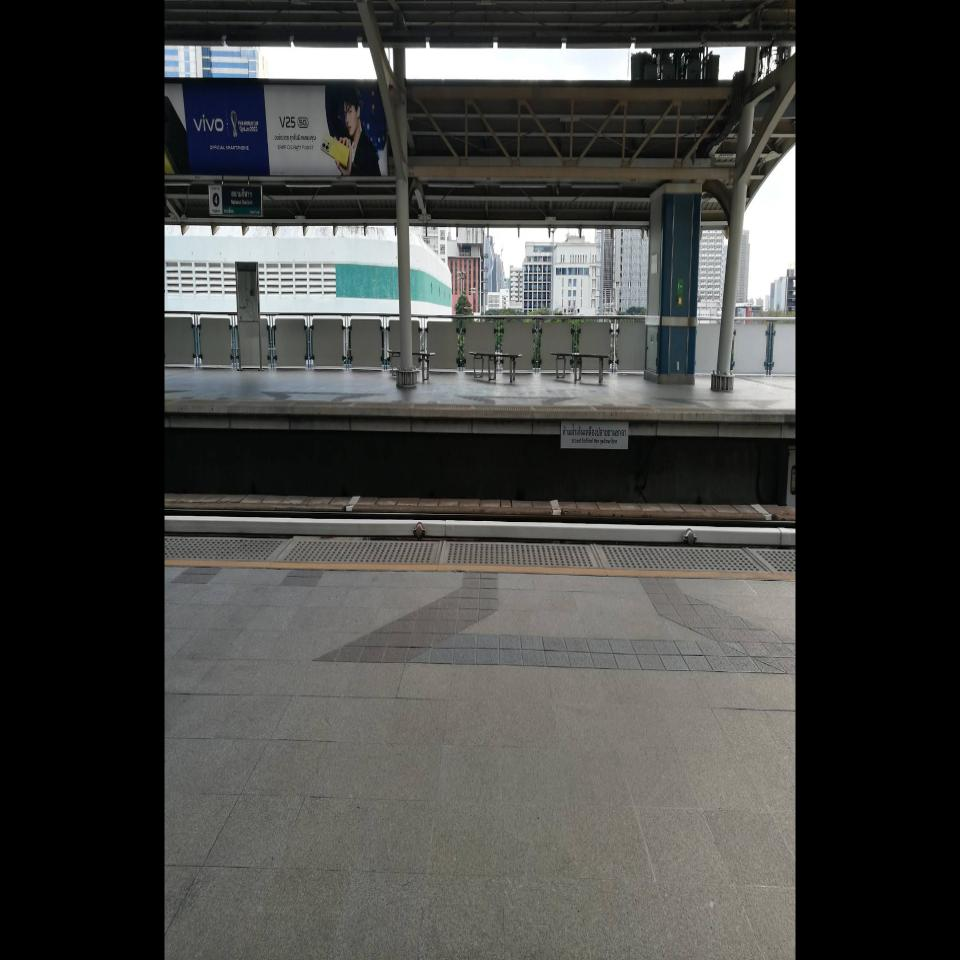signage: (230, 183, 253, 217)
